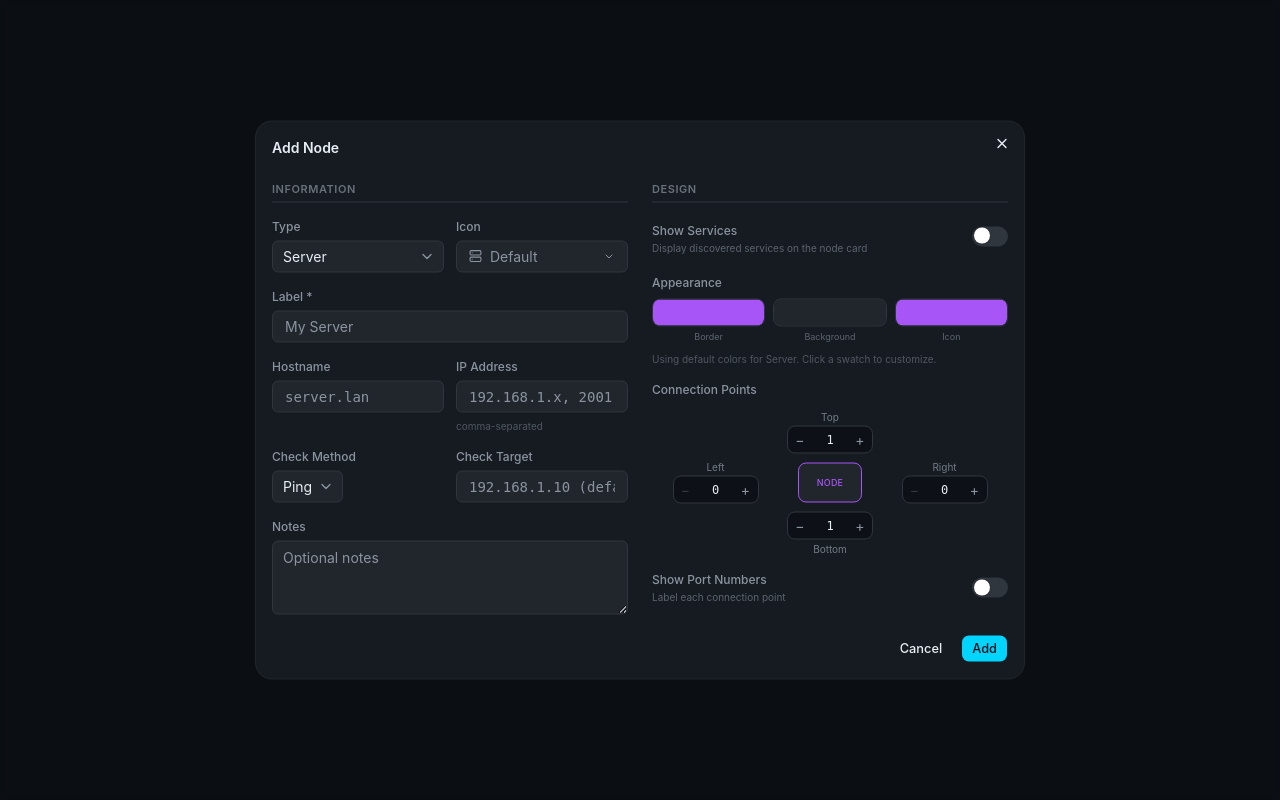
Test: NodeModal › blocks submit and shows error when label is empty
The image size is (1280, 800).
What coordinates should you click on to do the following:
click the button "Add"
I would click on:
 (985, 648)
Its box is [961,634,1008,662].
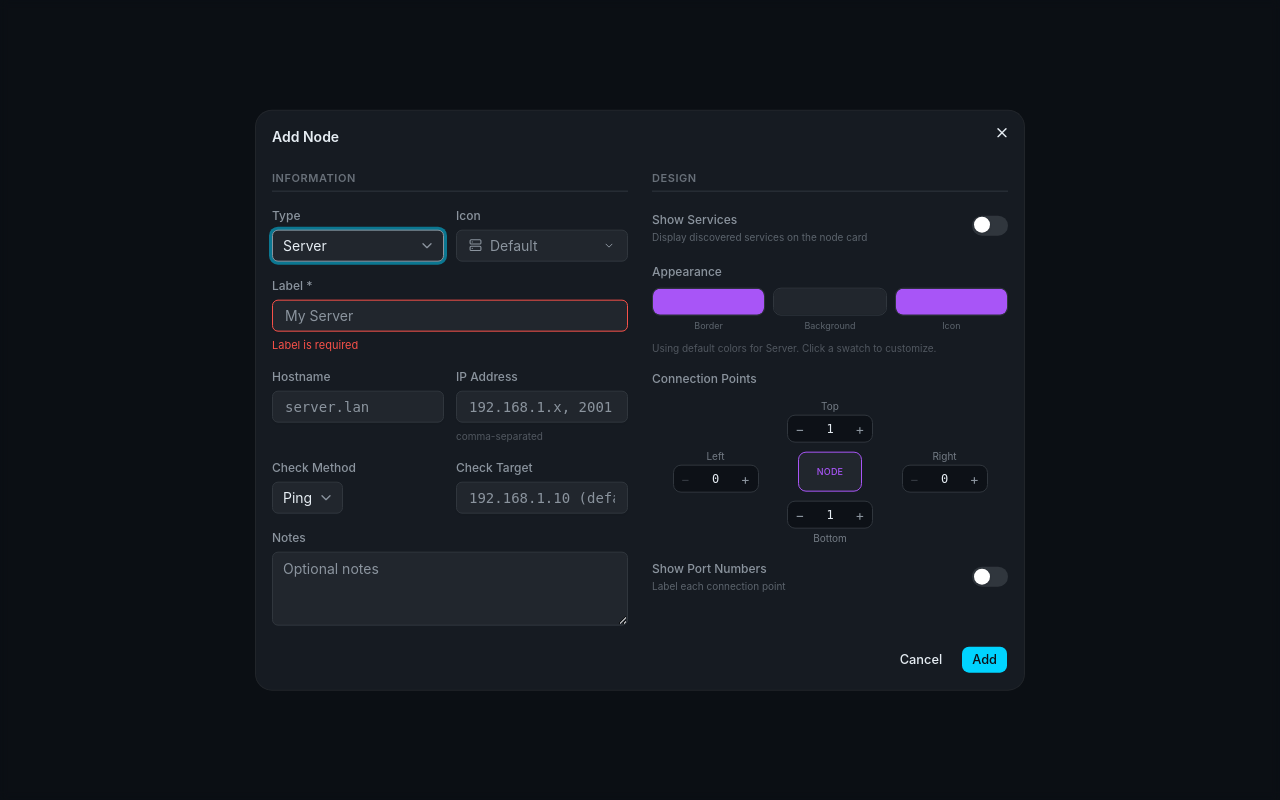
expect the text "Label is required" is shown: met, box [272,337,358,351]
